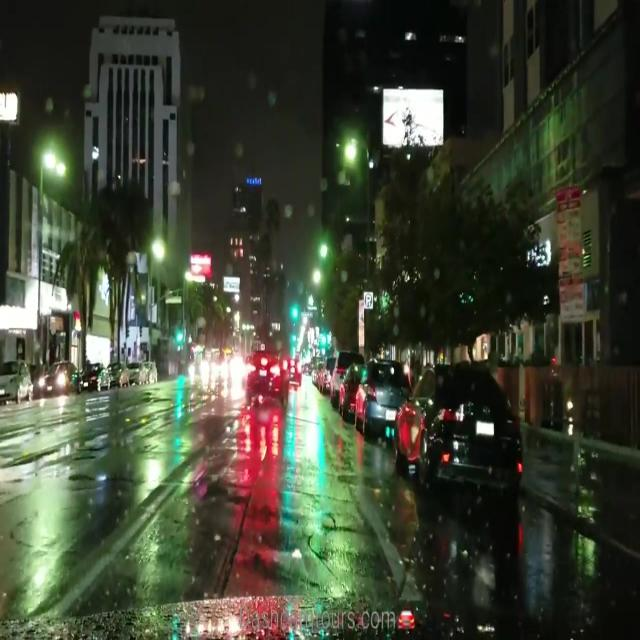Car: (396, 367, 521, 502), (351, 358, 404, 431), (244, 350, 286, 397), (1, 362, 30, 402), (41, 359, 78, 388)
